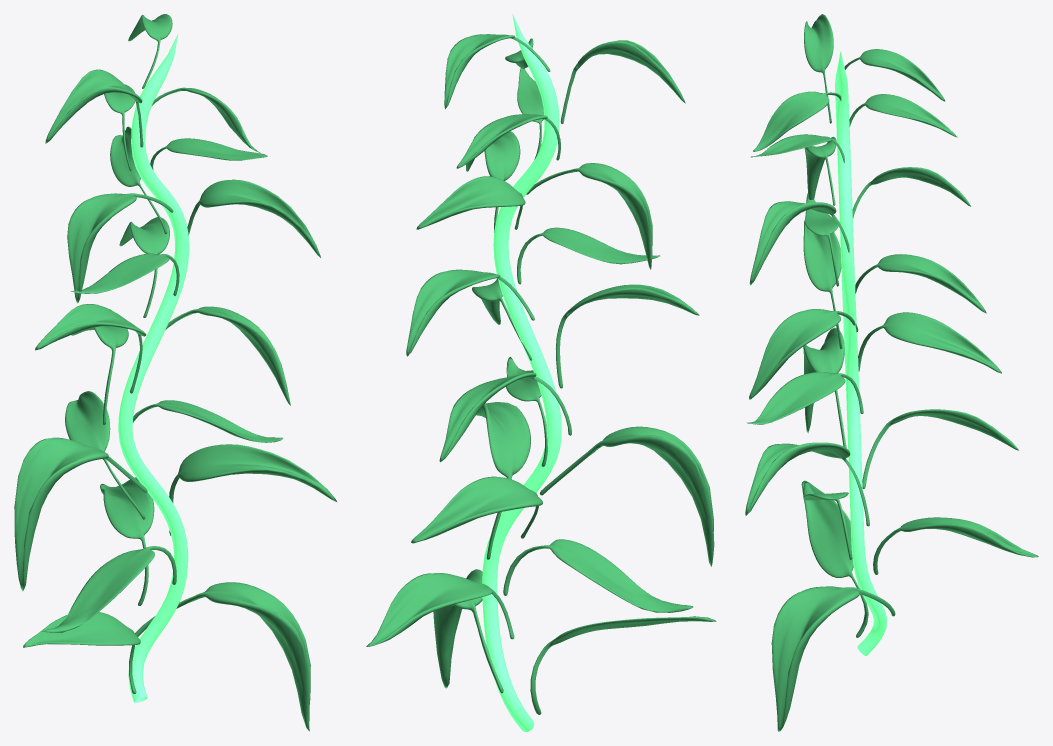
Rendered from Plant2_Medium.fbx.
3 renders of one model, left to right at view 1: azimuth 30°, elevation 25°; view 2: azimuth 150°, elevation 25°; view 3: azimuth 270°, elevation 25°, orthographic. The views are drawn at different scales.
Visible parts, largest first — view 1: Leaf, Stem; view 2: Leaf, Stem; view 3: Leaf, Stem.
Part boxes in pixels (x1=…): Leaf: x1=14, y1=14, x2=336, y2=731; Stem: x1=118, y1=34, x2=189, y2=702; Leaf: x1=366, y1=34, x2=716, y2=714; Stem: x1=482, y1=14, x2=561, y2=731; Leaf: x1=745, y1=14, x2=1038, y2=731; Stem: x1=835, y1=51, x2=886, y2=655.
Size of the model in its own units: 322 by 752 by 314.
